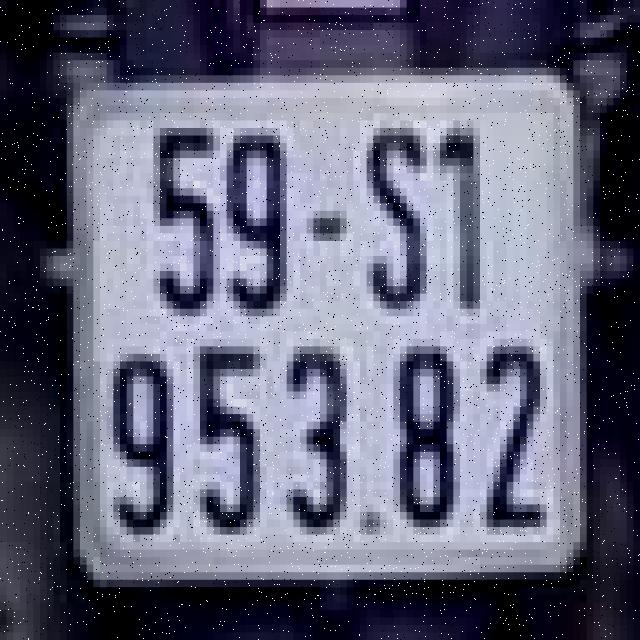1: (436, 113, 496, 316)
2: (474, 335, 554, 546)
3: (280, 338, 360, 534)
5: (183, 335, 270, 553), (147, 117, 220, 320)
8: (393, 339, 467, 542)
9: (103, 346, 177, 550), (220, 117, 293, 320)
S: (354, 109, 434, 328)
